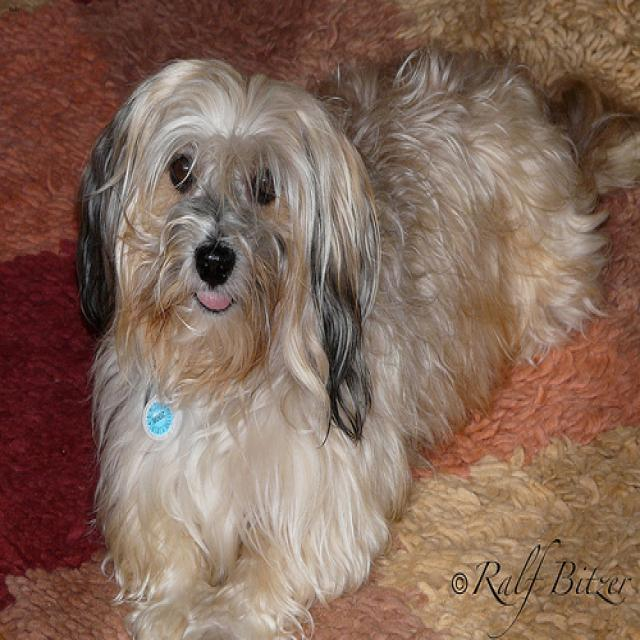dog-havanese: (68, 32, 637, 637)
